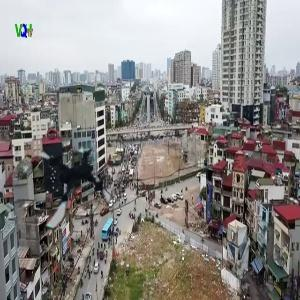drone: (20, 139, 116, 235)
